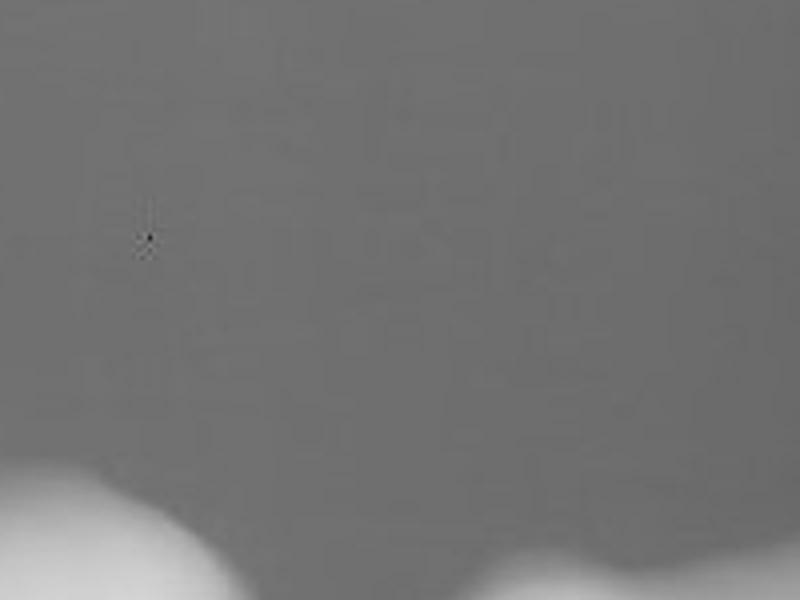defect: (143, 228, 155, 249)
